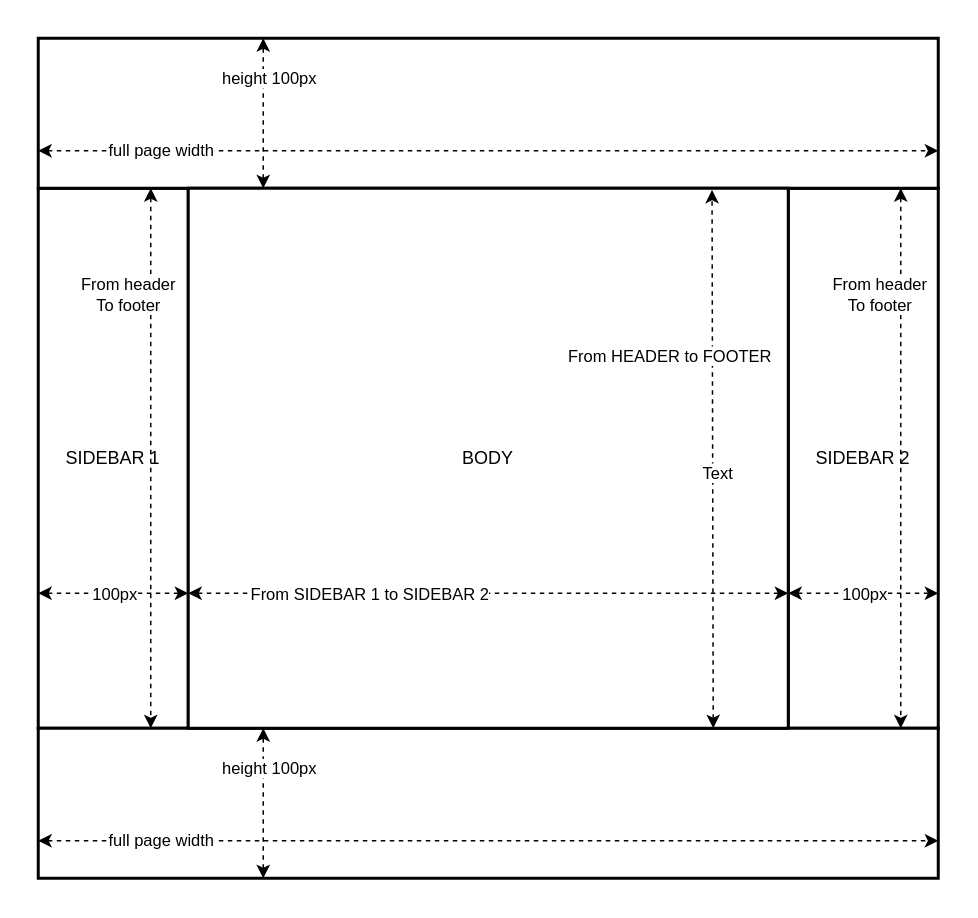
Some shapes in this 978 by 918 pixel diagram are drawn without their labels. The shapes that lost their labels are listed below. From the top down, each one's box as (x1, y1, x2, y2) in pixels, then its label:
(36, 36, 939, 189): HEADER
(36, 726, 939, 879): FOOTER
